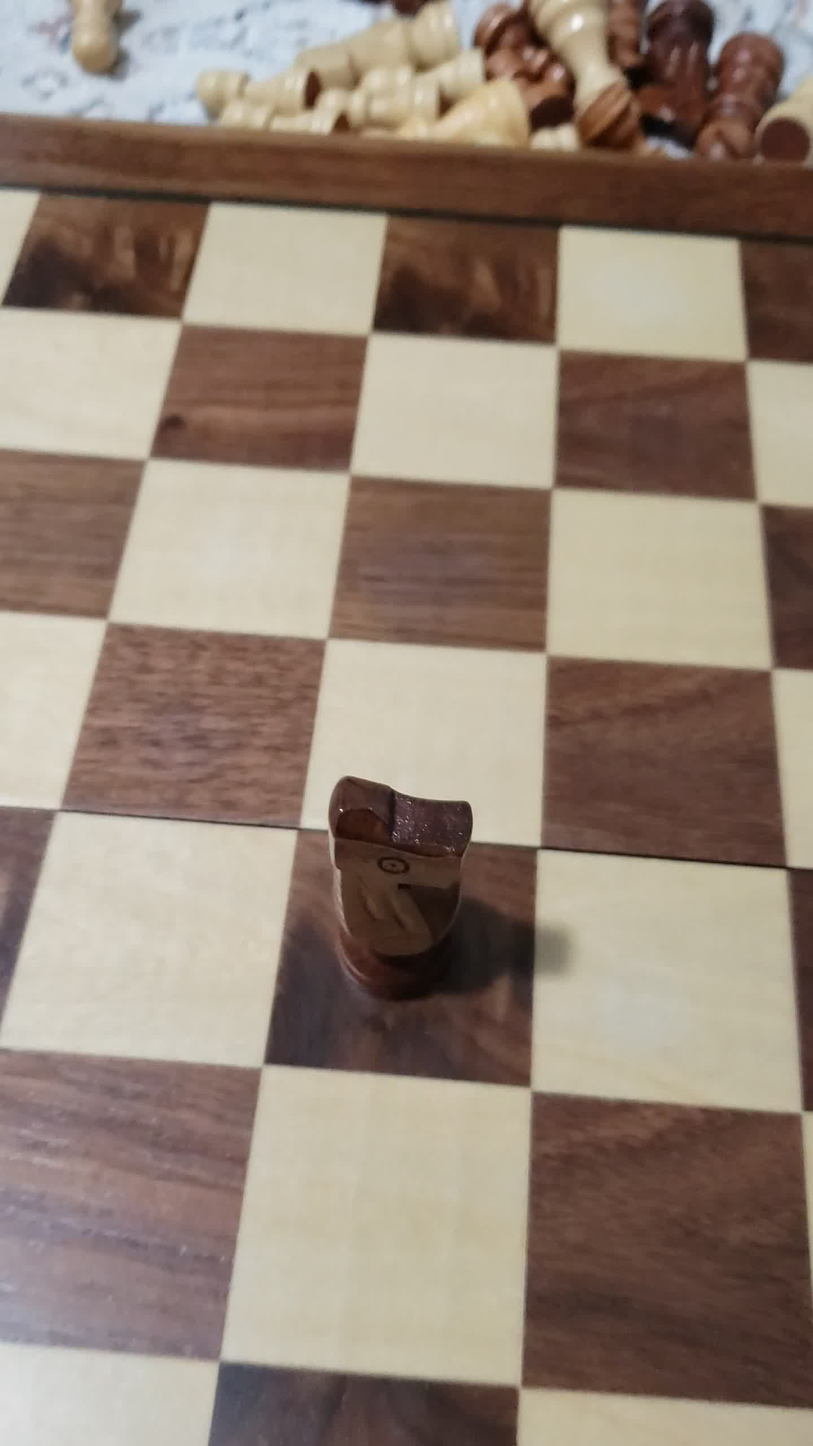black-knight: (288, 755, 521, 1035)
